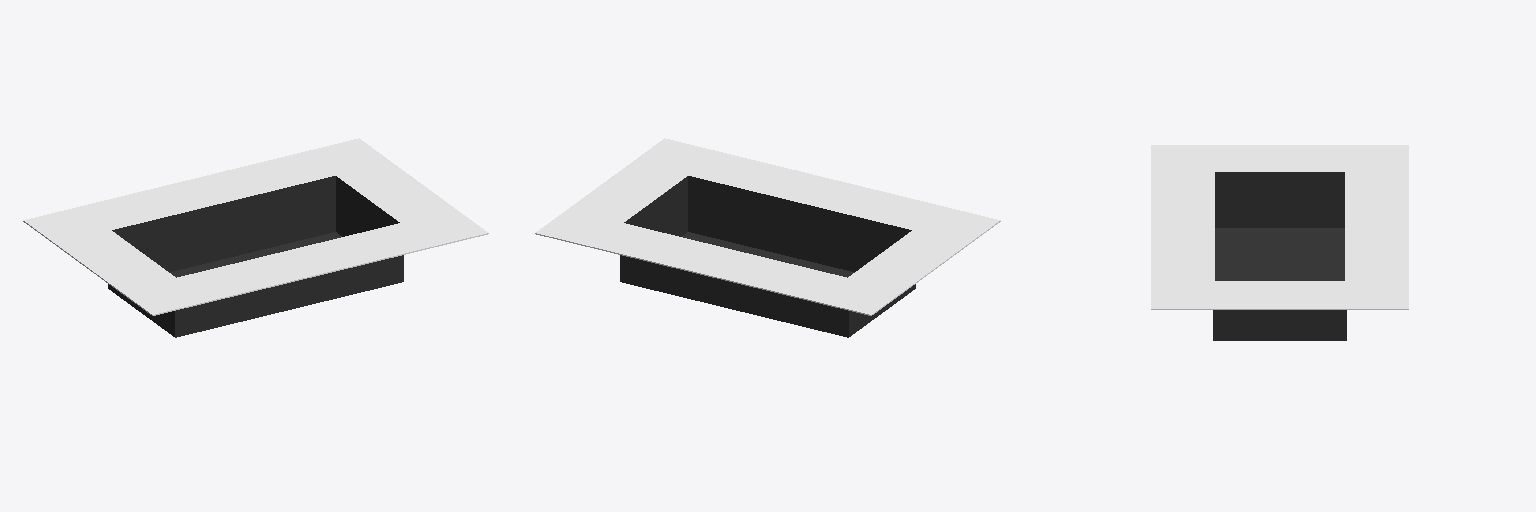
File: bin_uncovered.obj
The picture shows the model from 3 angles: view 1: azimuth 30°, elevation 25°; view 2: azimuth 150°, elevation 25°; view 3: azimuth 270°, elevation 25°; orthographic projection.
Parts seen in each view (by area): view 1: mesh_1_Weigh_Anchor_Bin-1, mesh_2_Boss-Extrude1; view 2: mesh_1_Weigh_Anchor_Bin-1, mesh_2_Boss-Extrude1; view 3: mesh_1_Weigh_Anchor_Bin-1, mesh_2_Boss-Extrude1.
Part boxes in pixels (x1,y1,x2,y2): mesh_1_Weigh_Anchor_Bin-1: (23, 138, 488, 315); mesh_2_Boss-Extrude1: (108, 176, 403, 337); mesh_1_Weigh_Anchor_Bin-1: (535, 138, 1000, 315); mesh_2_Boss-Extrude1: (620, 176, 915, 337); mesh_1_Weigh_Anchor_Bin-1: (1151, 145, 1408, 309); mesh_2_Boss-Extrude1: (1213, 172, 1346, 340).
Size of the model in its own units: 0.9144 by 0.1524 by 0.6096.